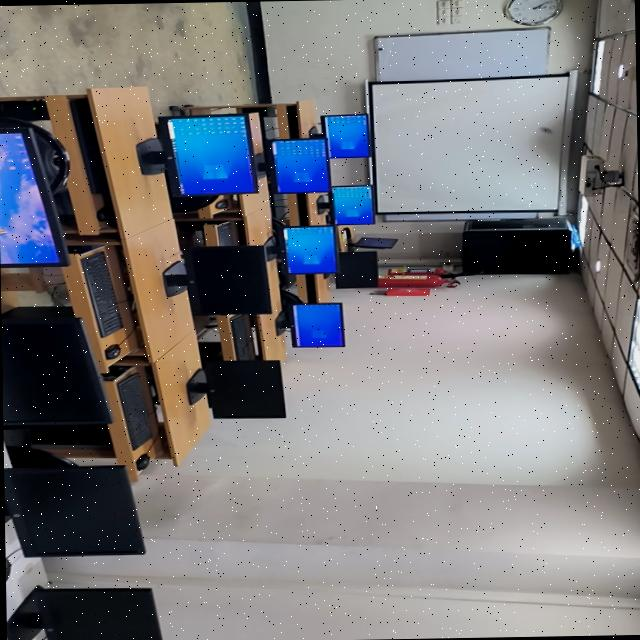Chair: (0, 116, 68, 194), (167, 181, 217, 213), (5, 445, 77, 467)
Fire Extinguisher: (377, 275, 459, 288), (384, 267, 453, 276)
Keyboard: (67, 98, 107, 200), (80, 250, 122, 337), (116, 370, 152, 449), (208, 315, 254, 360), (192, 221, 237, 245)
Light: (627, 298, 640, 395), (590, 40, 604, 94), (578, 195, 586, 245), (617, 64, 627, 78), (595, 259, 599, 272)
Monitor: (3, 462, 144, 557), (0, 316, 111, 425), (5, 585, 161, 640), (158, 114, 257, 196), (0, 132, 58, 265), (163, 245, 270, 315), (196, 342, 285, 418), (267, 137, 329, 193), (283, 226, 335, 273), (321, 114, 368, 158), (327, 185, 372, 225), (348, 236, 397, 249), (317, 195, 326, 211)
Mouse: (95, 205, 112, 222), (103, 344, 120, 359), (135, 453, 150, 470)
Projector: (578, 146, 622, 197)
